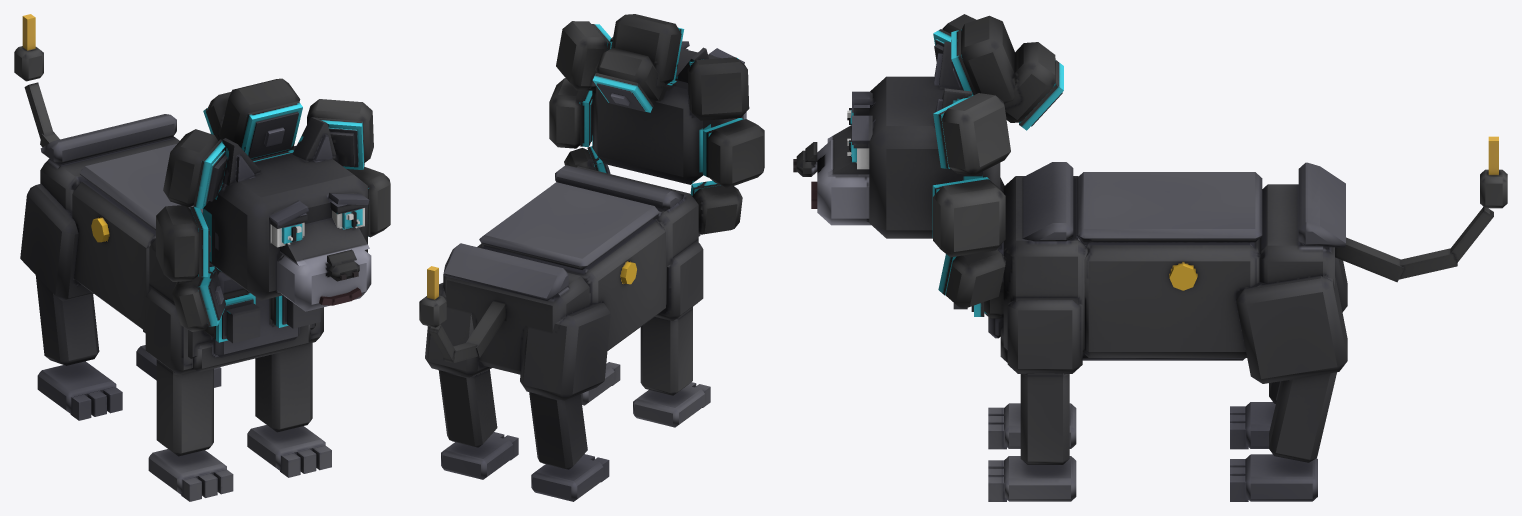
File: LionEnceinte_Rig.fbx
3 views of the same model, side by side, from view 1: azimuth 30°, elevation 25°; view 2: azimuth 150°, elevation 25°; view 3: azimuth 270°, elevation 25° (orthographic). The views are drawn at different scales.
Visible parts, largest first — view 1: Body, LegBR, LegFR, LegFL, Tail, Woof3, Woof0, Woof2, LegBL, Woof1; view 2: Body, LegBR, LegFR, LegBL, Tail, LegFL; view 3: Body, LegBL, LegFL, Tail, LegBR, LegFR.
Part boxes in pixels (x1,y1,x2,y2): Body: (40,78,390,371); LegBR: (20,184,122,420); LegFR: (145,289,233,501); LegFL: (247,307,331,477); Tail: (14,14,59,147); Woof3: (226,303,260,343); Woof0: (330,131,354,166); Woof2: (287,298,320,328); LegBL: (136,330,221,387); Woof1: (208,155,227,201); Body: (443,14,764,374); LegBR: (520,302,610,501); LegFR: (633,242,710,427); LegBL: (425,283,518,479); Tail: (419,266,505,363); LegFL: (580,362,620,405); Body: (793,14,1345,362); LegBL: (1230,275,1347,501); LegFL: (988,300,1082,501); Tail: (1335,136,1507,282); LegBR: (1230,257,1347,449); LegFR: (988,403,1076,449).
Bounding box in the file's own units: 3.54 × 6 × 8.89.
Materials: 1 (1 with a texture image).
